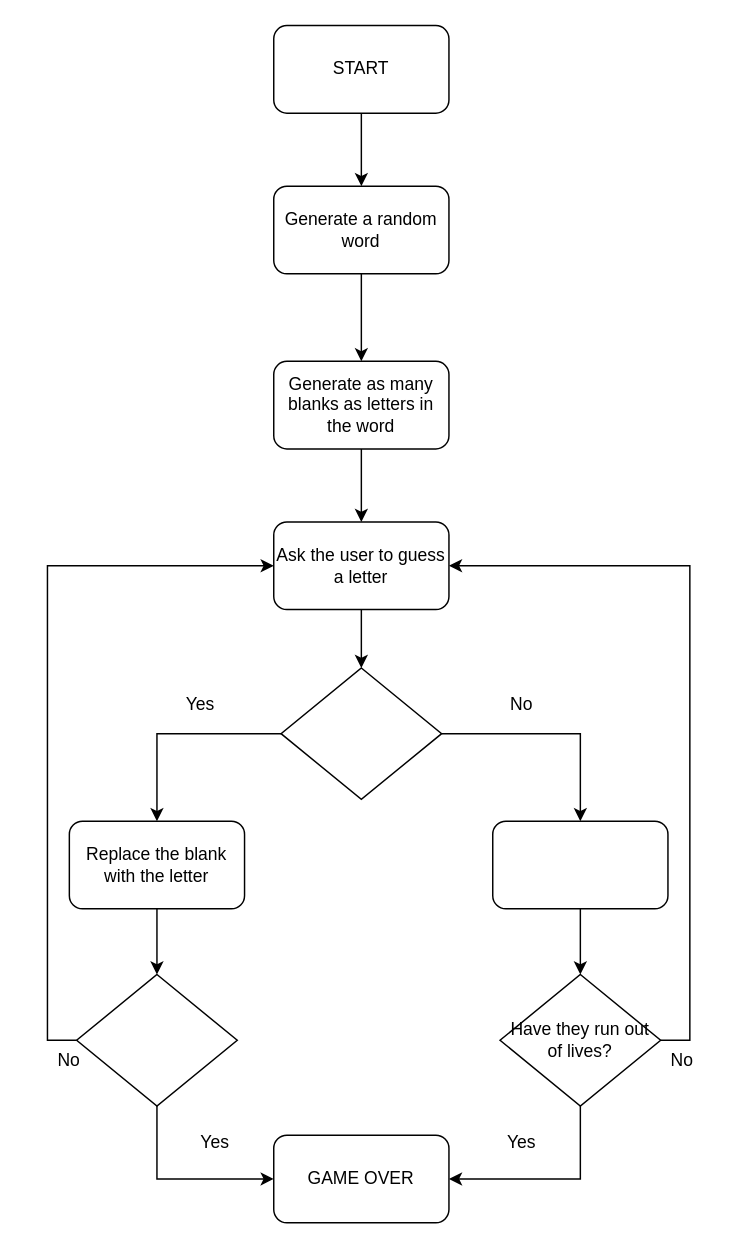
This 750x1248 diagram has some shape labels left out. The shapes that lost their labels are listed below. From the top down, each one's centre as x and y in pixels, then its label:
At (x=361, y=732): "Is the guessed letter in the word?".
At (x=579, y=864): "Lose a life".
At (x=156, y=1039): "Are all the blanks filled?".
